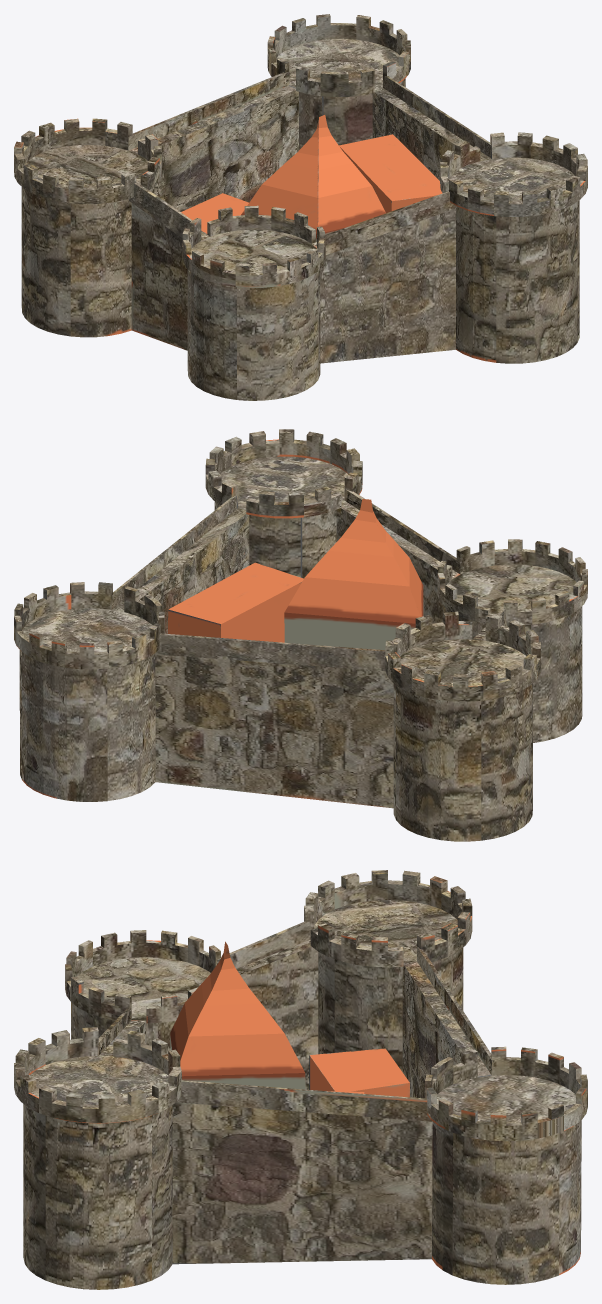
The model's file is CastleStuff.fbx.
The picture shows the model from 3 angles, top to bottom: view 1: azimuth 30°, elevation 25°; view 2: azimuth 150°, elevation 25°; view 3: azimuth 270°, elevation 25°; orthographic projection. The views are drawn at different scales.
Parts seen in each view (by area): view 1: Cube; view 2: Cube; view 3: Cube.
Boxes of the visible parts, x1=… form: Cube: x1=14, y1=14, x2=587, y2=400; Cube: x1=14, y1=429, x2=587, y2=841; Cube: x1=14, y1=870, x2=587, y2=1289.
Bounding box in the file's own units: 748 × 352 × 762.
